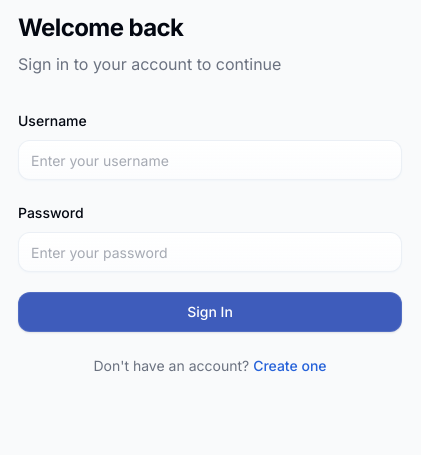
Test: LoginPage › displays error message when login fails
Type "baduser" into the field labelled "Username".
click(210, 160); type("baduser")  # box 18,140 -> 402,180
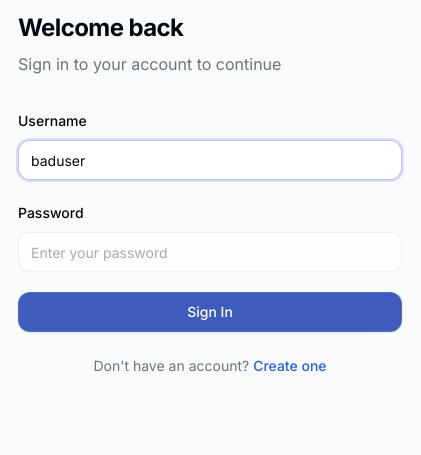
Type "wrong" into the password field labelled "Password".
click(210, 252); type("wrong")  # box 18,232 -> 402,272
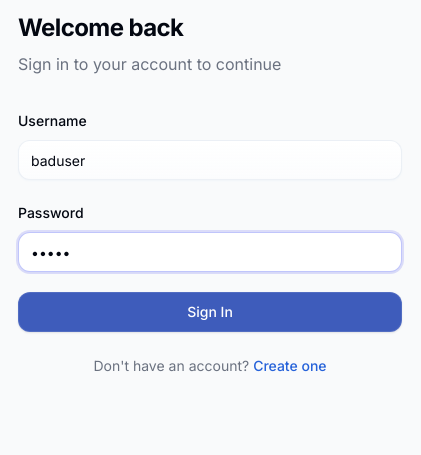
Click the button "Sign In".
click(210, 312)  # box 18,292 -> 402,332
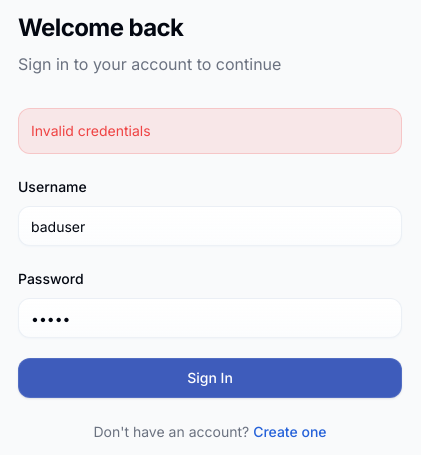
expect the text "Invalid credentials" is shown: met, box 31,122 -> 151,139
